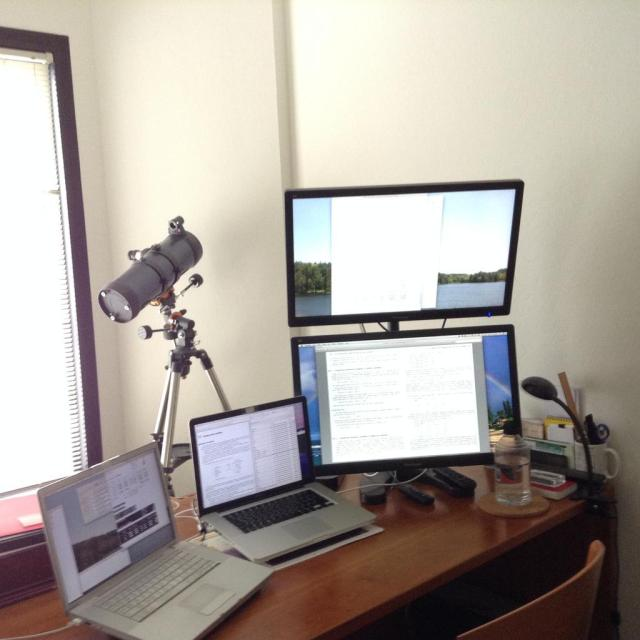bottle: (496, 421, 532, 506)
laptop: (47, 447, 255, 640), (189, 400, 378, 561)
